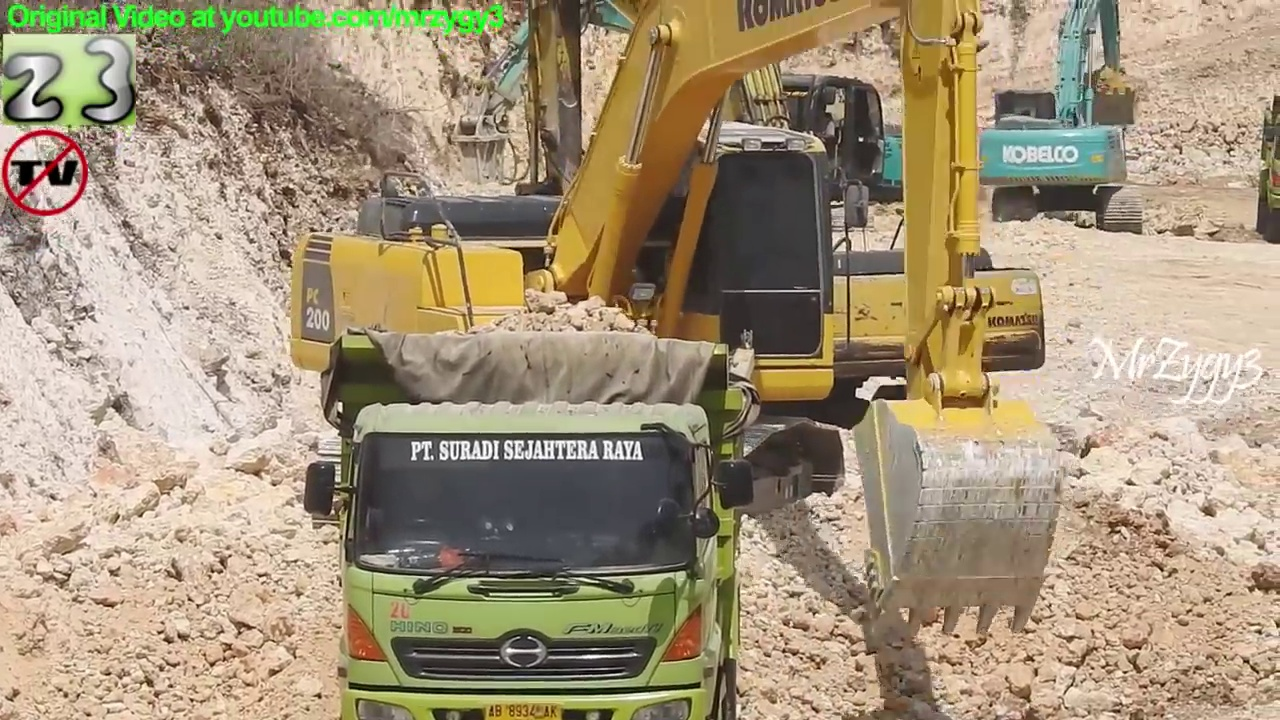excavator: (278, 1, 1072, 644), (491, 1, 1058, 471), (442, 1, 946, 243), (965, 1, 1154, 241)
truck: (298, 324, 765, 720), (1251, 90, 1280, 251)
